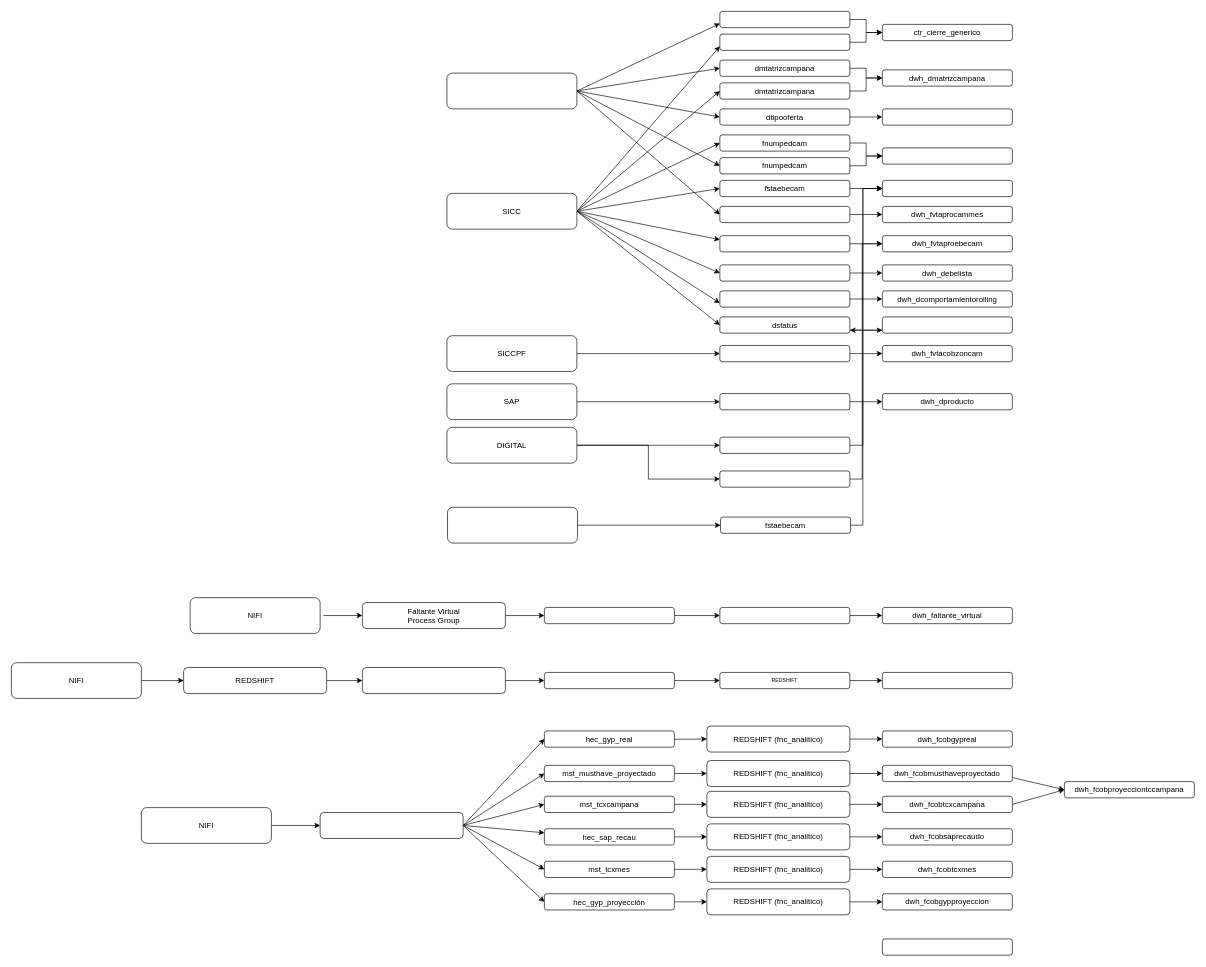
Some shapes in this 1206 by 967 pixel diagram are drawn without their labels. Here are the shapes that lost their labels. From the top down, the centre of each, then its label:
At [784,19]: "dcontrol".
At [784,41]: "dcampcer".
At [511,90]: "PLANIT".
At [947,116]: "dwh_dtipooferta".
At [947,155]: "dwh_fnumpedcam".
At [947,188]: "dwh_fstaebecam".
At [784,214]: "fvtaprocammes".
At [784,243]: "fvtaproebecam".
At [784,272]: "debelista".
At [784,298]: "dcomportamientorolling".
At [947,324]: "dwh_dstatus".
At [784,353]: "fvtacobzoncam".
At [784,401]: "dproducto".
At [784,444]: "flogingresoportal".
At [784,478]: "dorigenpedidoweb".
At [512,525]: "BI".
At [609,615]: "CSV".
At [784,615]: "s3://belc-bigdata-landing-dlk-prd/datalake/input/sap/FaltanteVirtual/".
At [433,680]: "EMR".
At [609,680]: "s3://analitico/GlueDatabase/functional/ dwh_cobranzas_consultoras/".
At [947,680]: "dwh_fcobconsultora".
At [391,825]: "REDSHIFT (wrk_analitico)".
At [947,946]: "dwh_fcobtcxmesgypreal".
